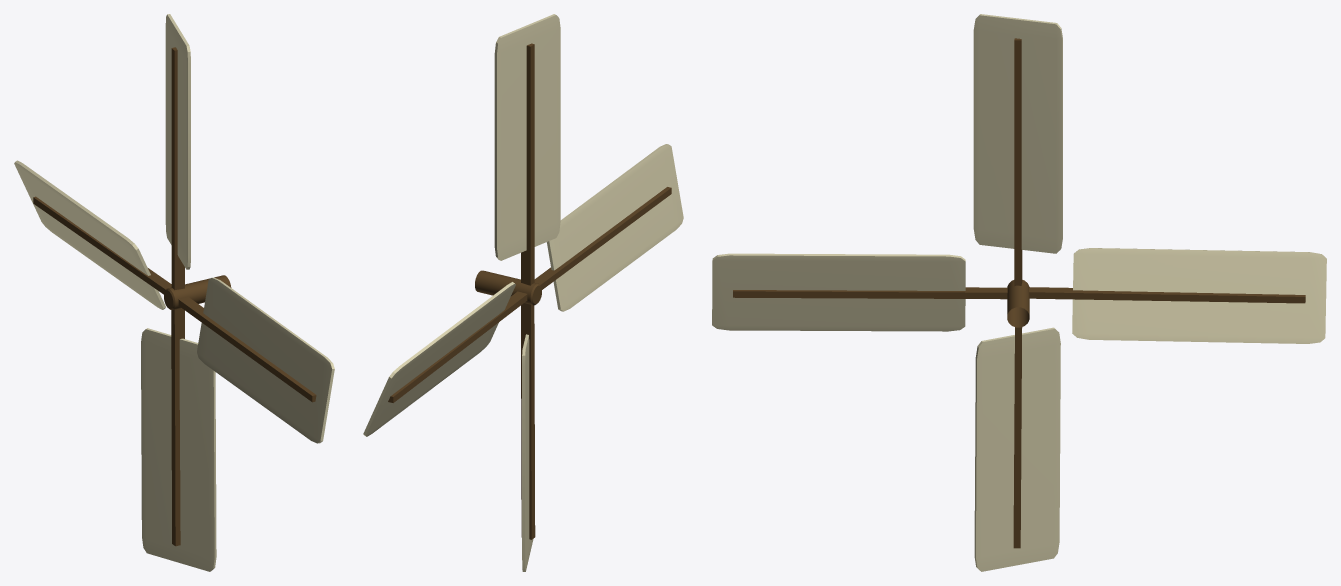
The model's file is moulin 1.fbx.
3 renders of one model, left to right at view 1: azimuth 30°, elevation 25°; view 2: azimuth 150°, elevation 25°; view 3: azimuth 270°, elevation 25°, orthographic. The views are drawn at different scales.
Parts seen in each view (by area): view 1: Cylinder.001; view 2: Cylinder.001; view 3: Cylinder.001.
Boxes of the visible parts, x1,y1,x2,y2 form: Cylinder.001: [14, 14, 334, 571]; Cylinder.001: [363, 14, 683, 571]; Cylinder.001: [712, 14, 1326, 571].
Size of the model in its own units: 109 by 851 by 870.
